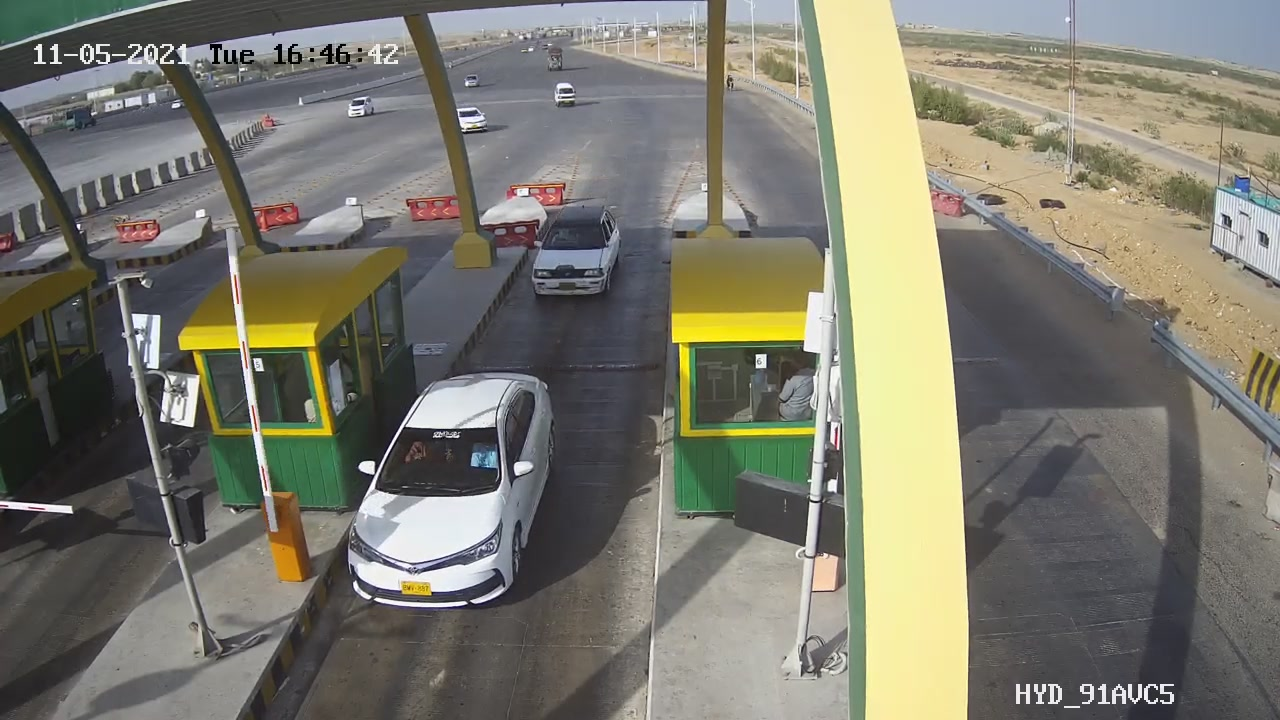F1: (324, 354, 581, 634), (509, 192, 635, 316)
